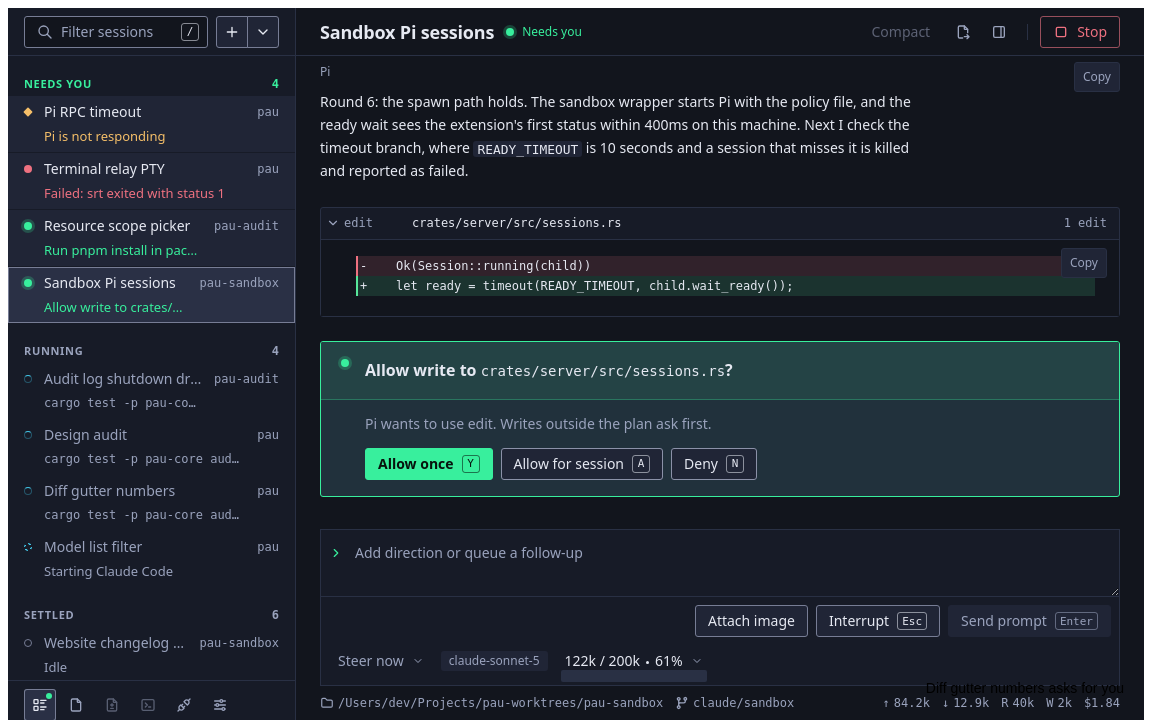
Scenario: plays the arrival with the strip travelling, and only a fade under reduced motion
(page scrolled)
Expected: the heading "Needs you 4" is shown, [24,76,279,91]
Click the button "Diff gutter numbers asks for you".
click(1025, 688)  # box [914,672,1136,704]
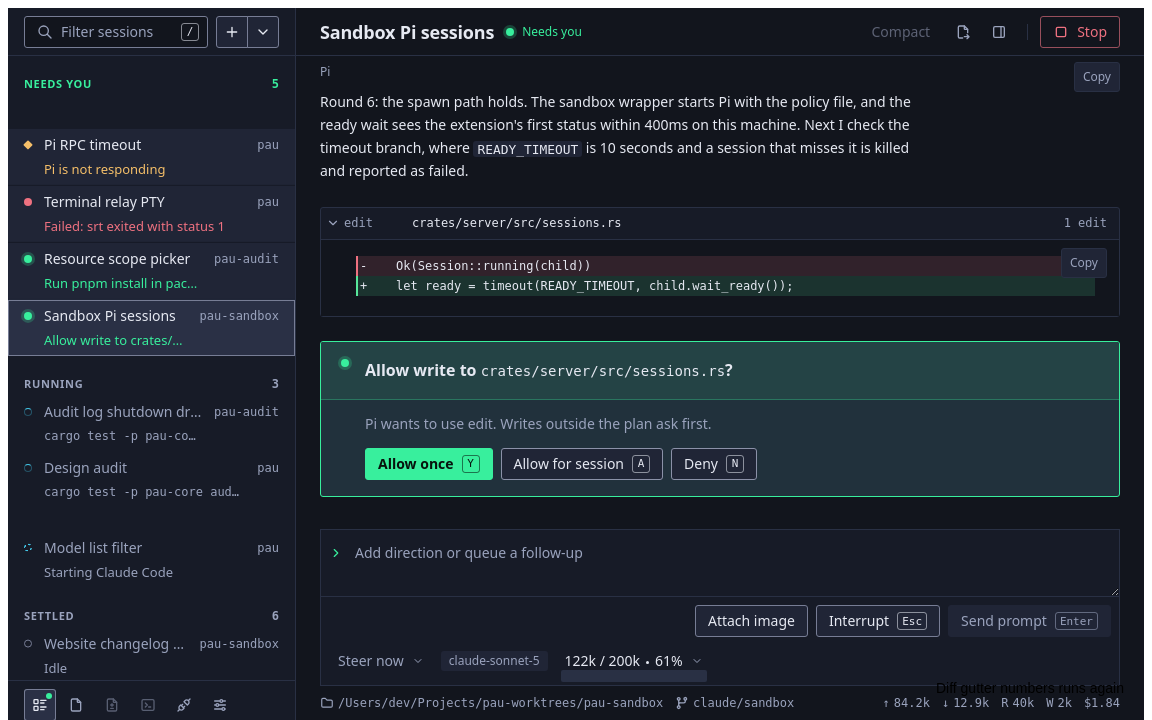
Expected: the heading "Needs you 5" is shown, [24,76,279,91]
Click the button "Diff gutter numbers runs again".
click(1030, 688)  # box [924,672,1136,704]
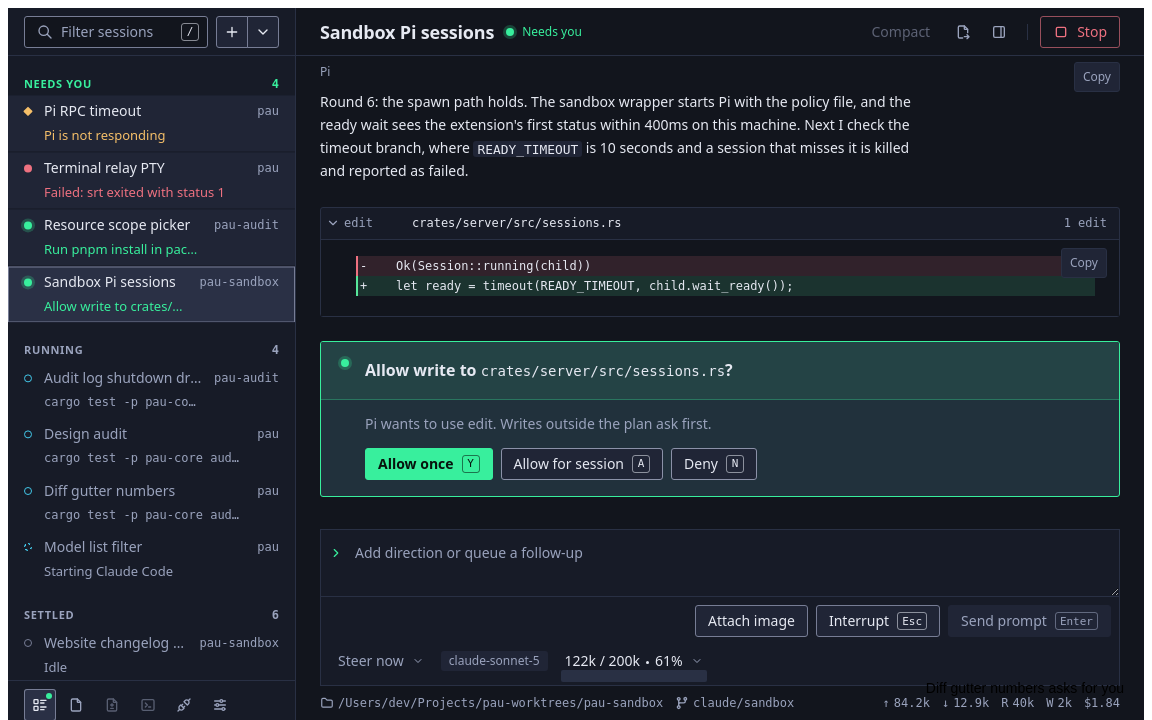
Click the button "Diff gutter numbers asks for you".
click(1025, 688)  # box [914,672,1136,704]
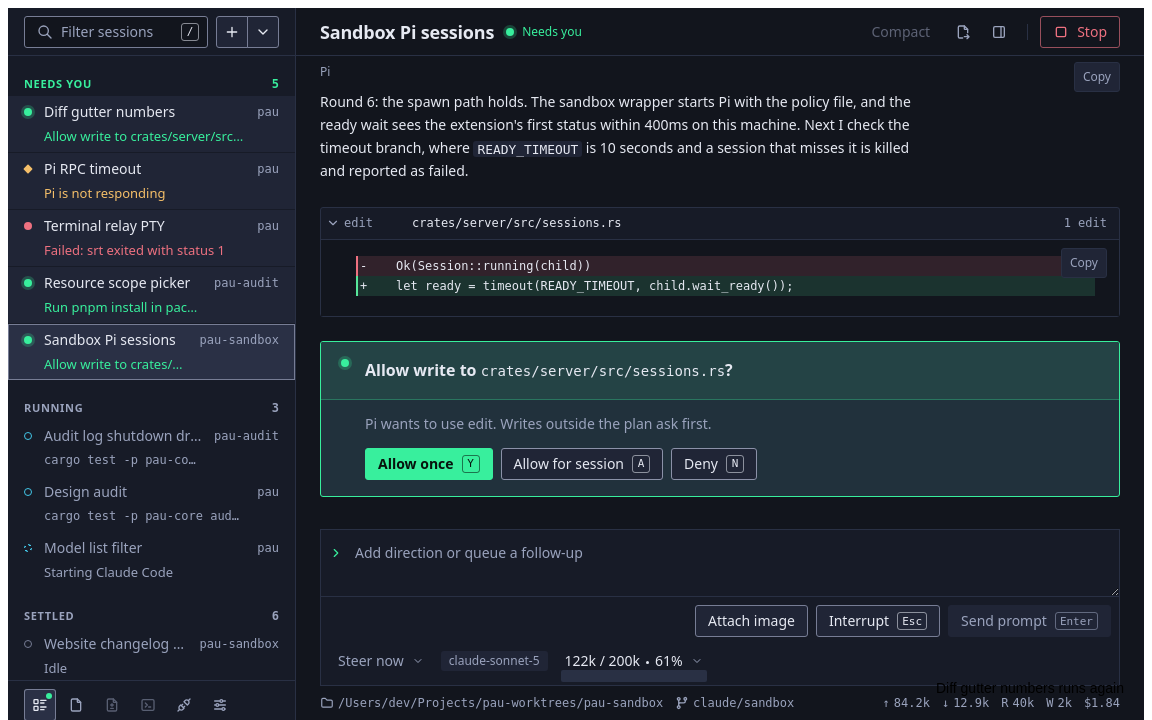
Expected: the heading "Needs you 5" is shown, [24,76,279,91]
